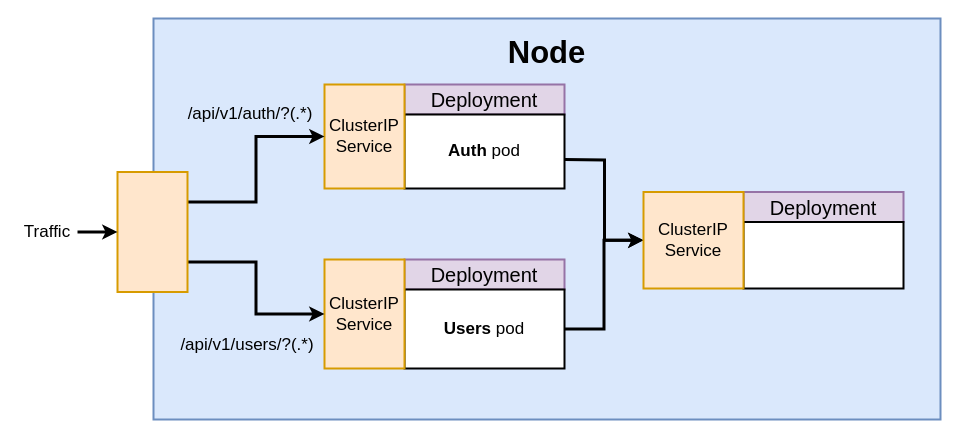
Some shapes in this 958 by 437 pixel diagram are drawn without their labels. The centre of each missing label's shape, as x and y in pixels:
"Ingress Service" belongs at (x=152, y=231).
"Mongo pod" belongs at (x=823, y=254).
